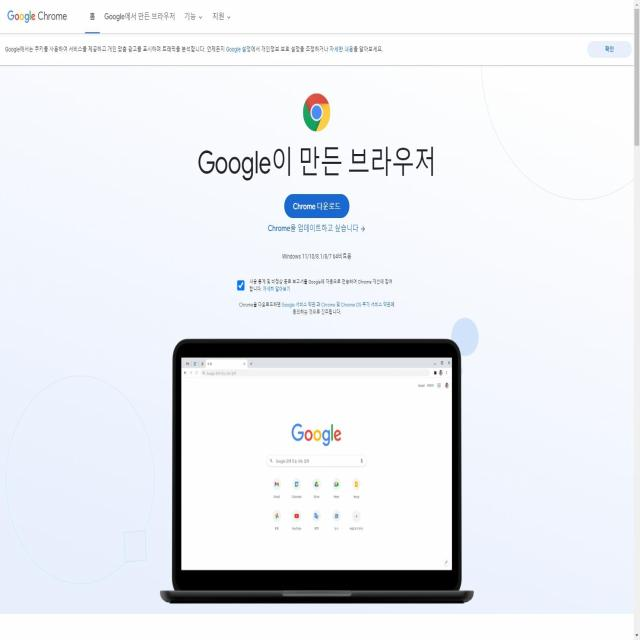button: (285, 193, 349, 220), (586, 41, 632, 58)
checkbox: (237, 277, 393, 294)
